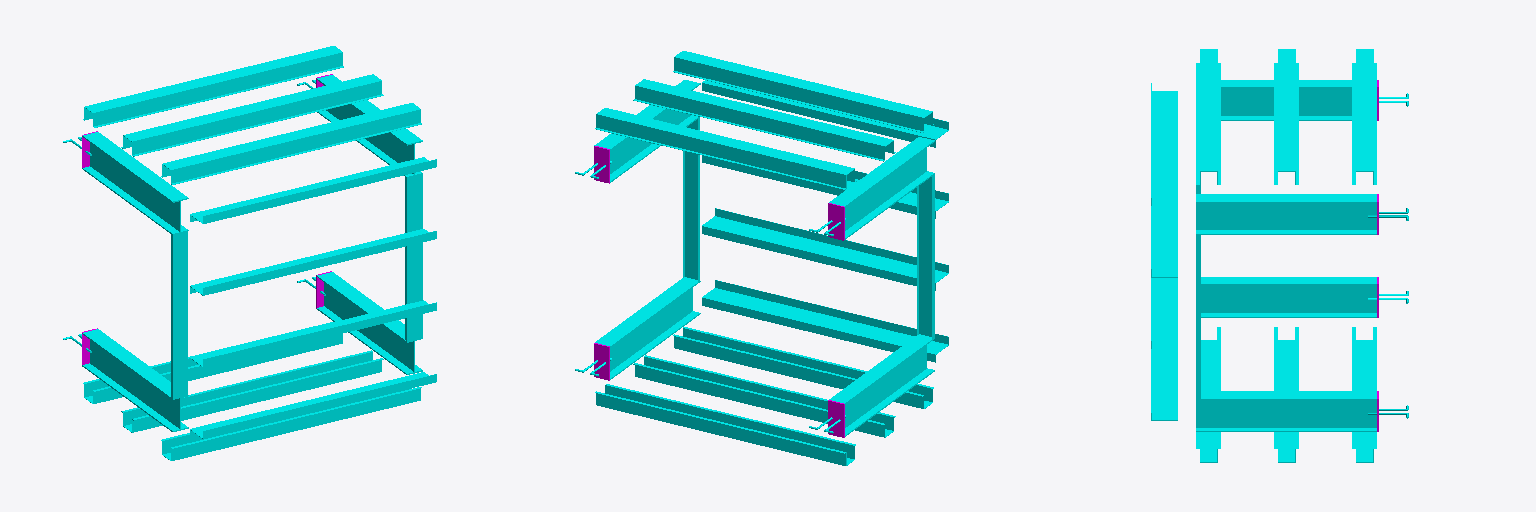
Rendered from teste.obj.
3 renders of one model, left to right at view 1: azimuth 30°, elevation 25°; view 2: azimuth 150°, elevation 25°; view 3: azimuth 270°, elevation 25°, orthographic.
Parts seen in each view (by area): view 1: CART20X85X100X2.00, W200X22.50, Z150X50X50X2.25, U100X25X3.00, PLATE_102x206x10; view 2: CART20X85X100X2.00, Z150X50X50X2.25, W200X22.50, U100X25X3.00, PLATE_102x206x10; view 3: W200X22.50, CART20X85X100X2.00, Z150X50X50X2.25, U100X25X3.00, FE1/2''.
Part boxes in pixels (bbox=[...]): CART20X85X100X2.00: bbox=[83, 46, 421, 460]; W200X22.50: bbox=[82, 75, 422, 431]; Z150X50X50X2.25: bbox=[190, 157, 436, 438]; U100X25X3.00: bbox=[171, 174, 422, 398]; PLATE_102x206x10: bbox=[82, 74, 332, 364]; CART20X85X100X2.00: bbox=[595, 51, 933, 465]; Z150X50X50X2.25: bbox=[702, 80, 948, 362]; W200X22.50: bbox=[594, 80, 934, 436]; U100X25X3.00: bbox=[683, 118, 934, 338]; PLATE_102x206x10: bbox=[594, 146, 844, 437]; W200X22.50: bbox=[1196, 80, 1376, 431]; CART20X85X100X2.00: bbox=[1196, 49, 1376, 462]; Z150X50X50X2.25: bbox=[1151, 83, 1177, 420]; U100X25X3.00: bbox=[1196, 172, 1200, 398]; FE1/2'': bbox=[1368, 93, 1408, 418].
Bounding box in the file's own units: 1.65 × 1.78 × 1.43.